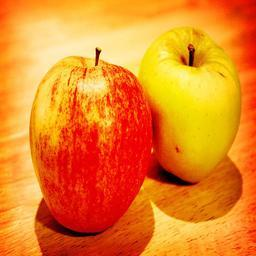apple: (27, 50, 173, 234), (136, 27, 241, 179)
